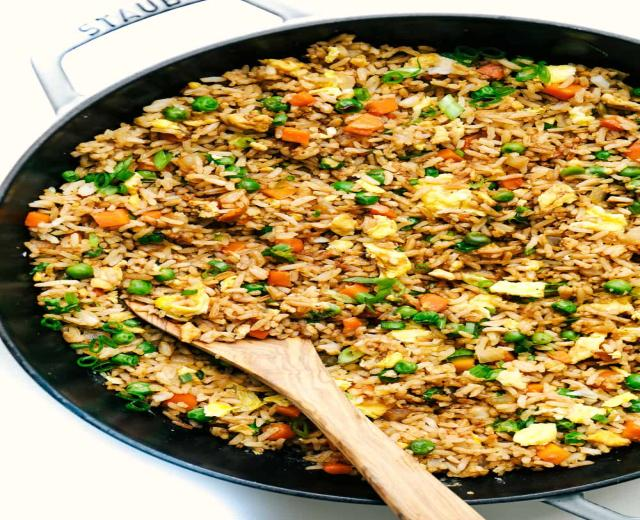fried rice: (22, 39, 621, 474)
